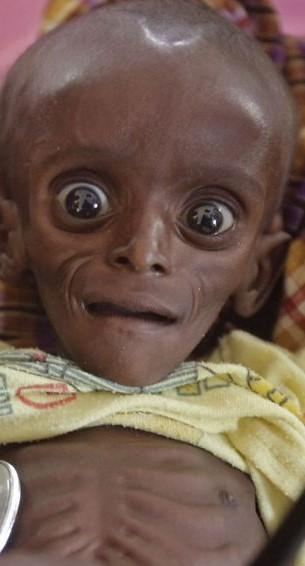Stunting: (0, 66, 305, 450)
